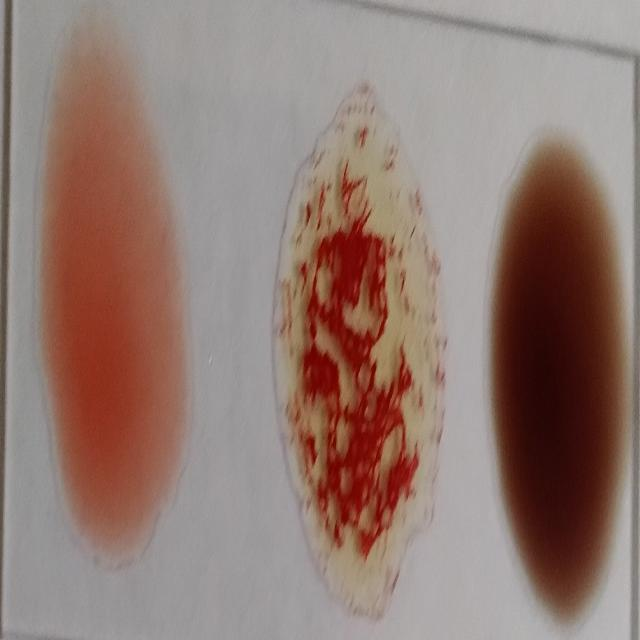B: (282, 97, 441, 604)
